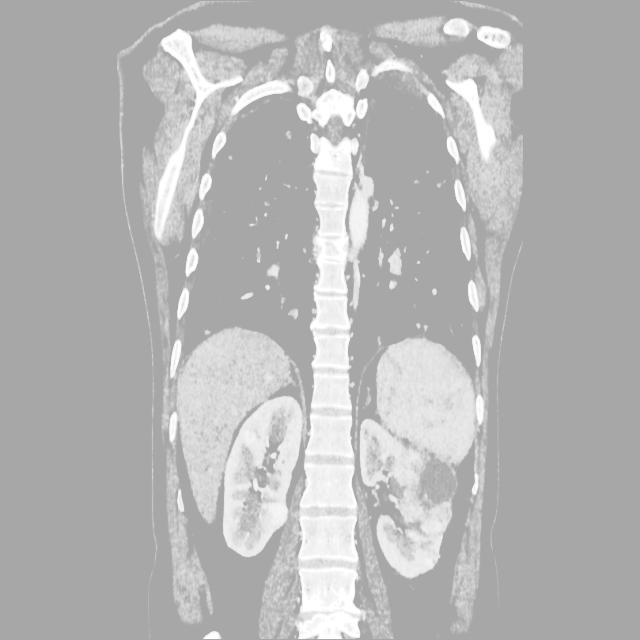TUMOR: (68, 281, 475, 518)
